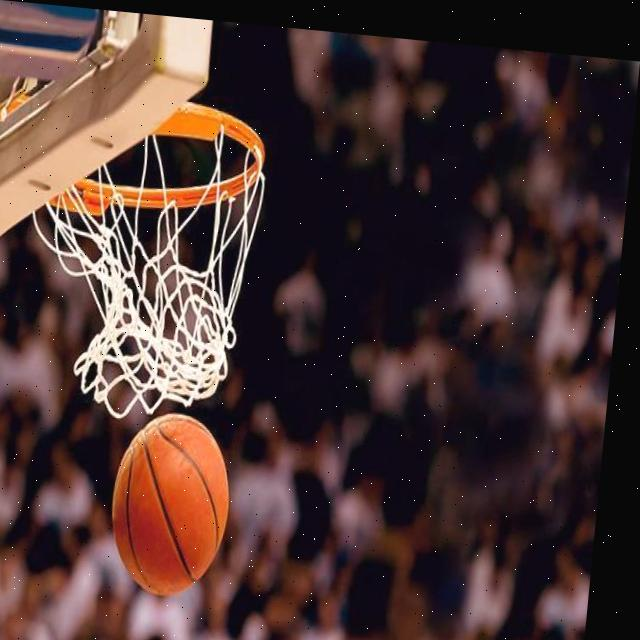Basketball: (105, 410, 239, 602)
